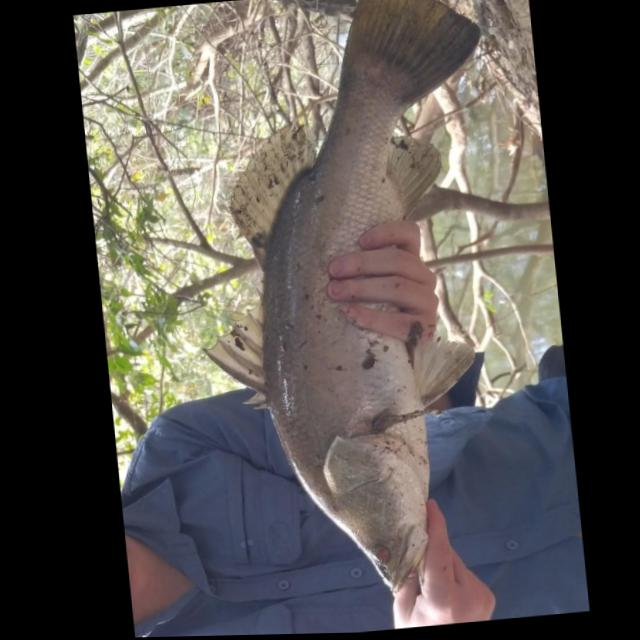Seabass: (167, 0, 528, 608)
